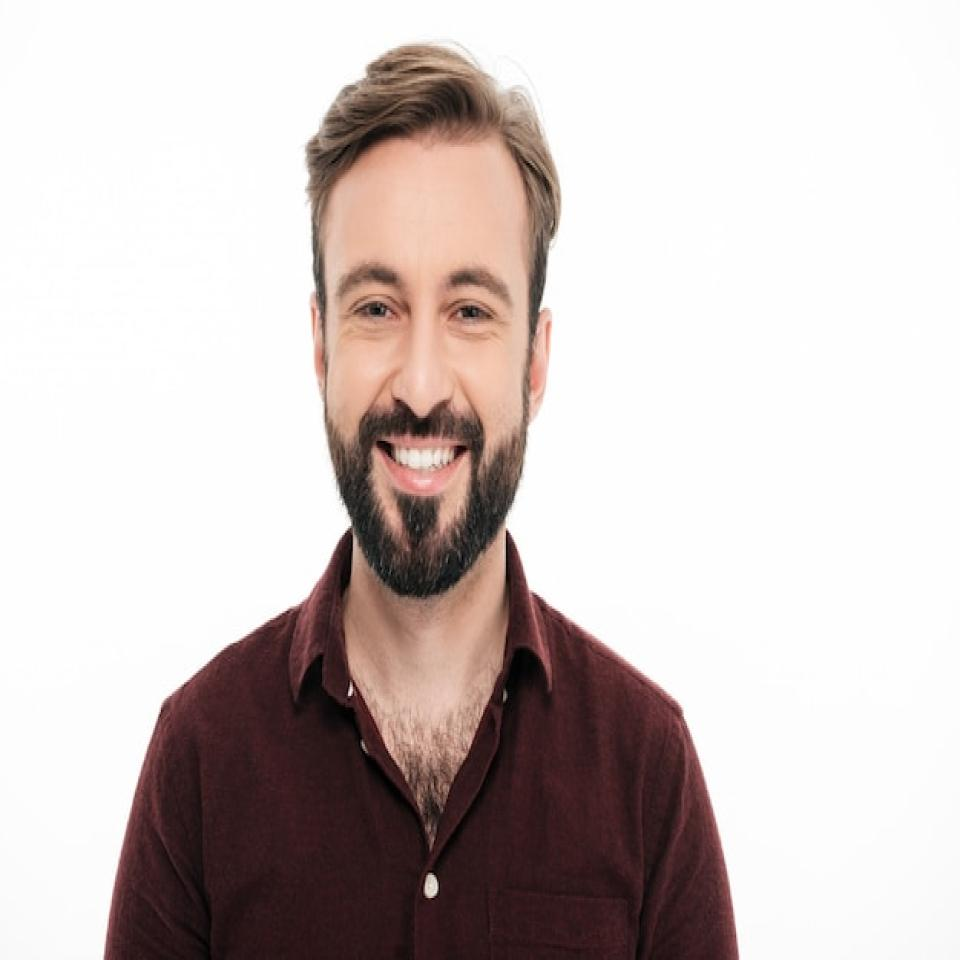Happiness: (314, 155, 531, 594)
